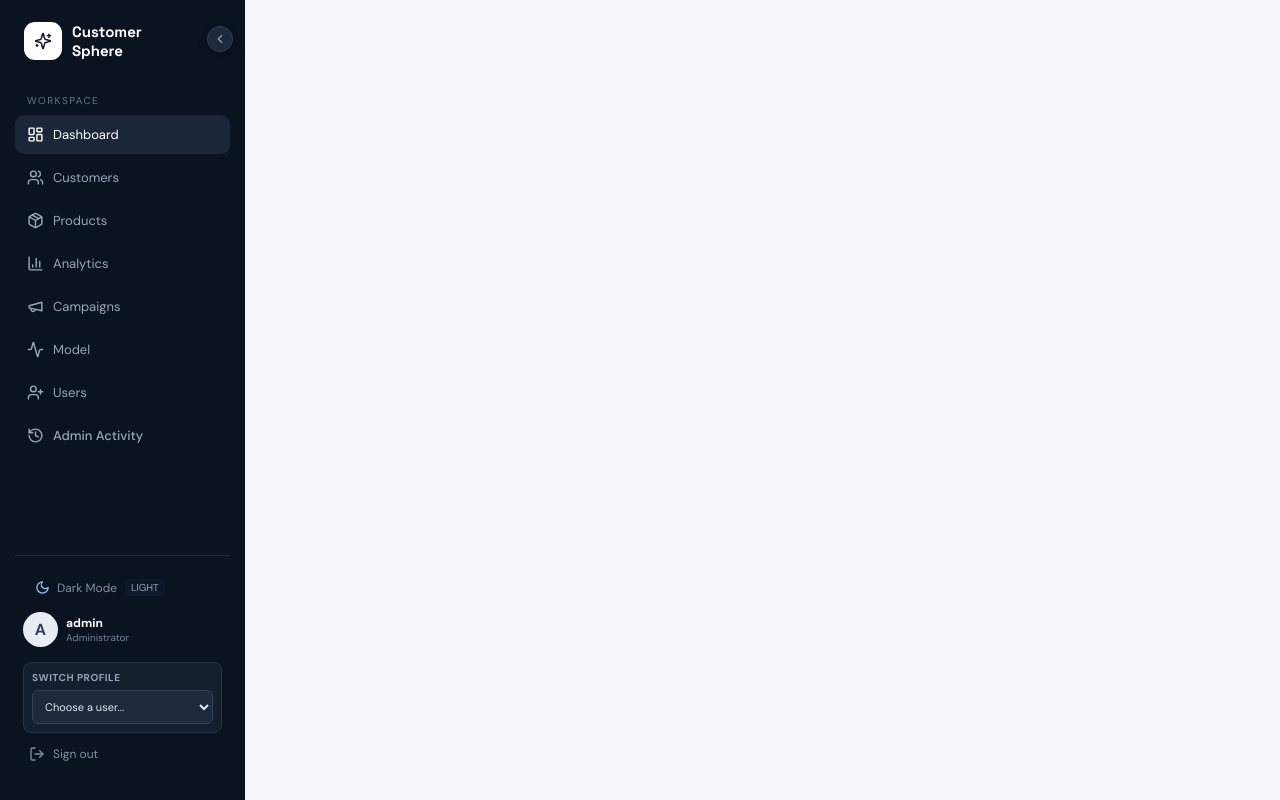
Test case: Shell Navigation & Layout Component › shows login error message when switch authentication fails
This screenshot has width=1280, height=800.
Select "analyst — Viewer" in the dropdown named "Switch profile": {"x": 122, "y": 707} [32,690,213,724]
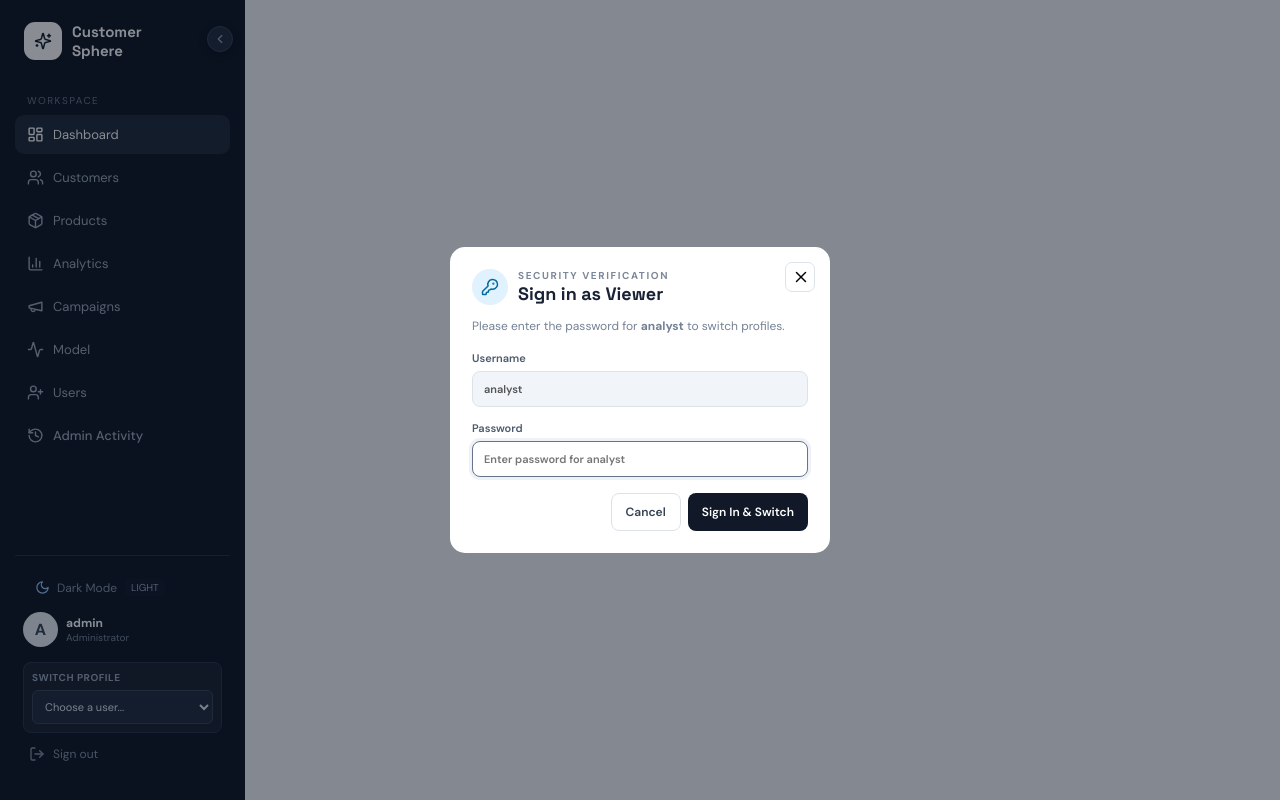
In the password field with placeholder "Enter password for analyst": {"x": 640, "y": 459} [472,441,808,477], type "wrongpass"
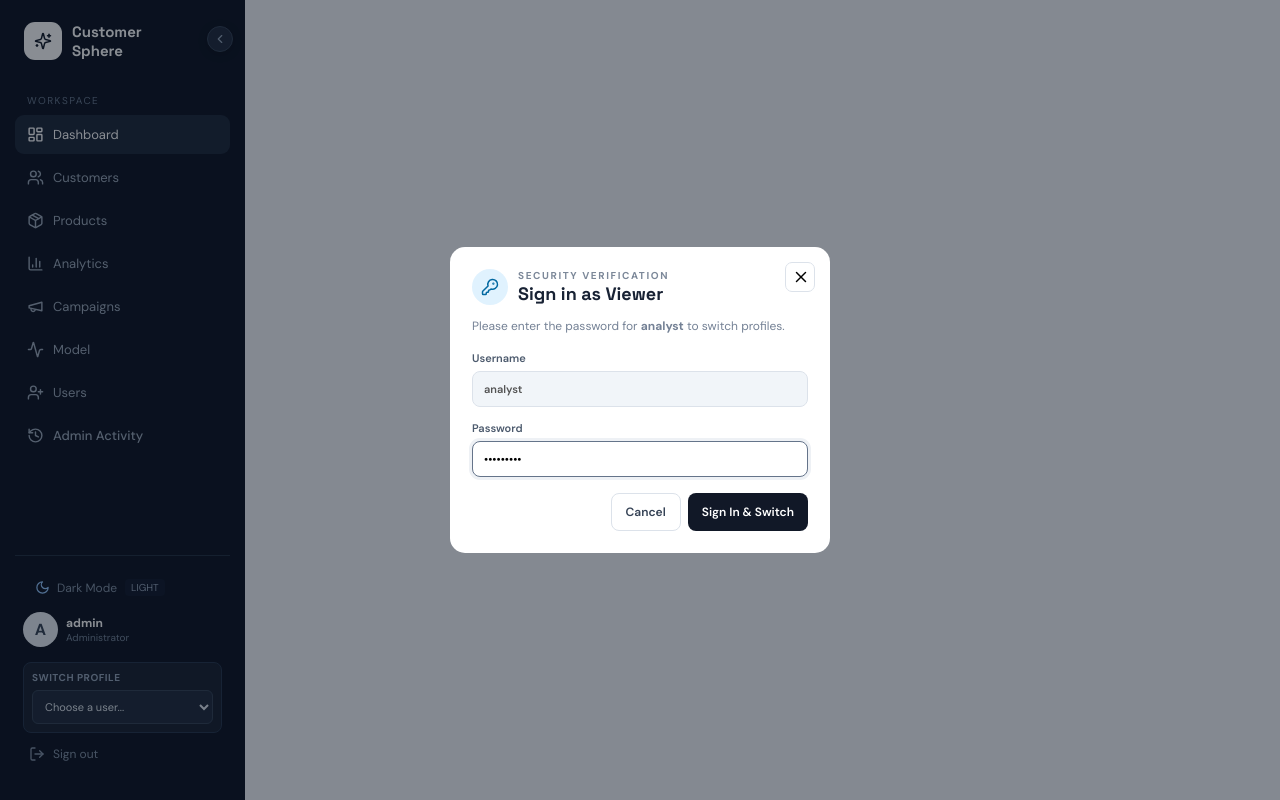
Submit the form with class "modal", box [450,247,830,553]
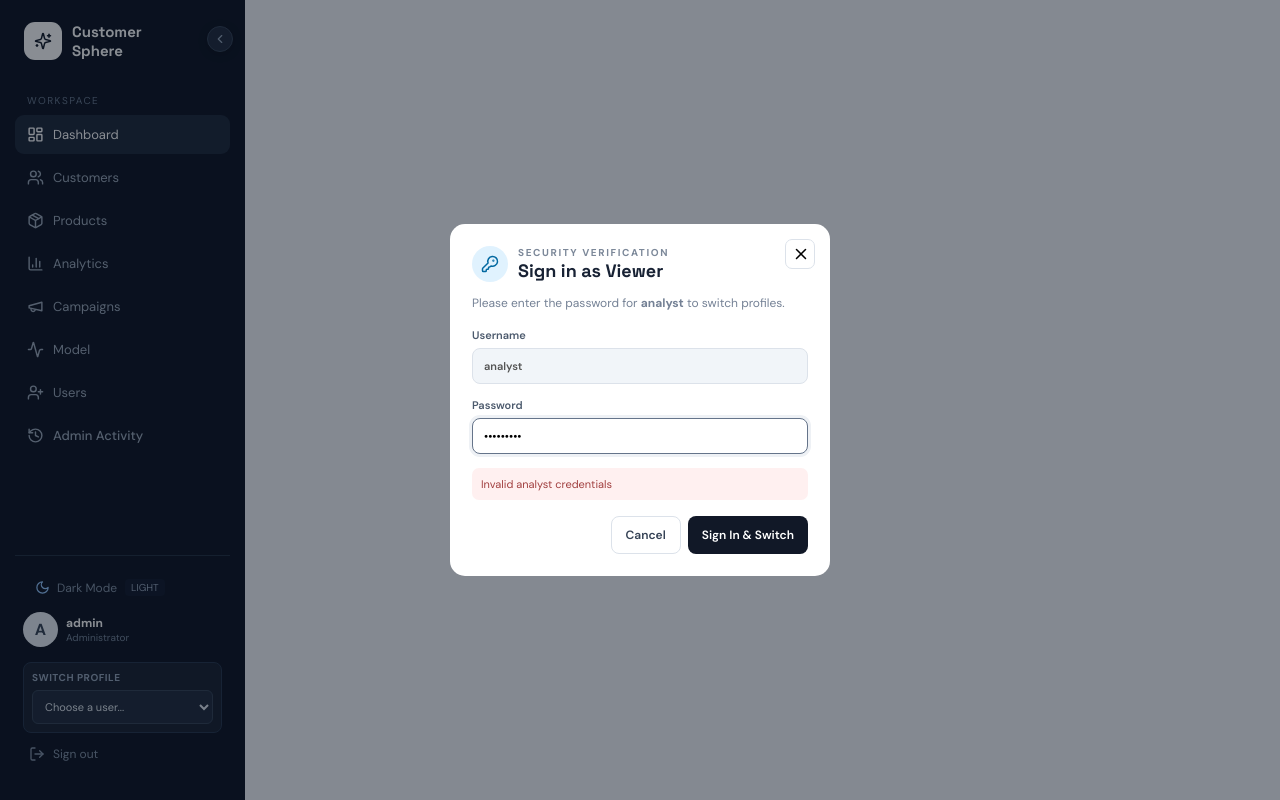
Now the text "Invalid analyst credentials" is shown, box [472,468,808,500]
Note: Close modal via Cancel button
Click the button "Cancel": {"x": 646, "y": 535} [610,516,681,554]
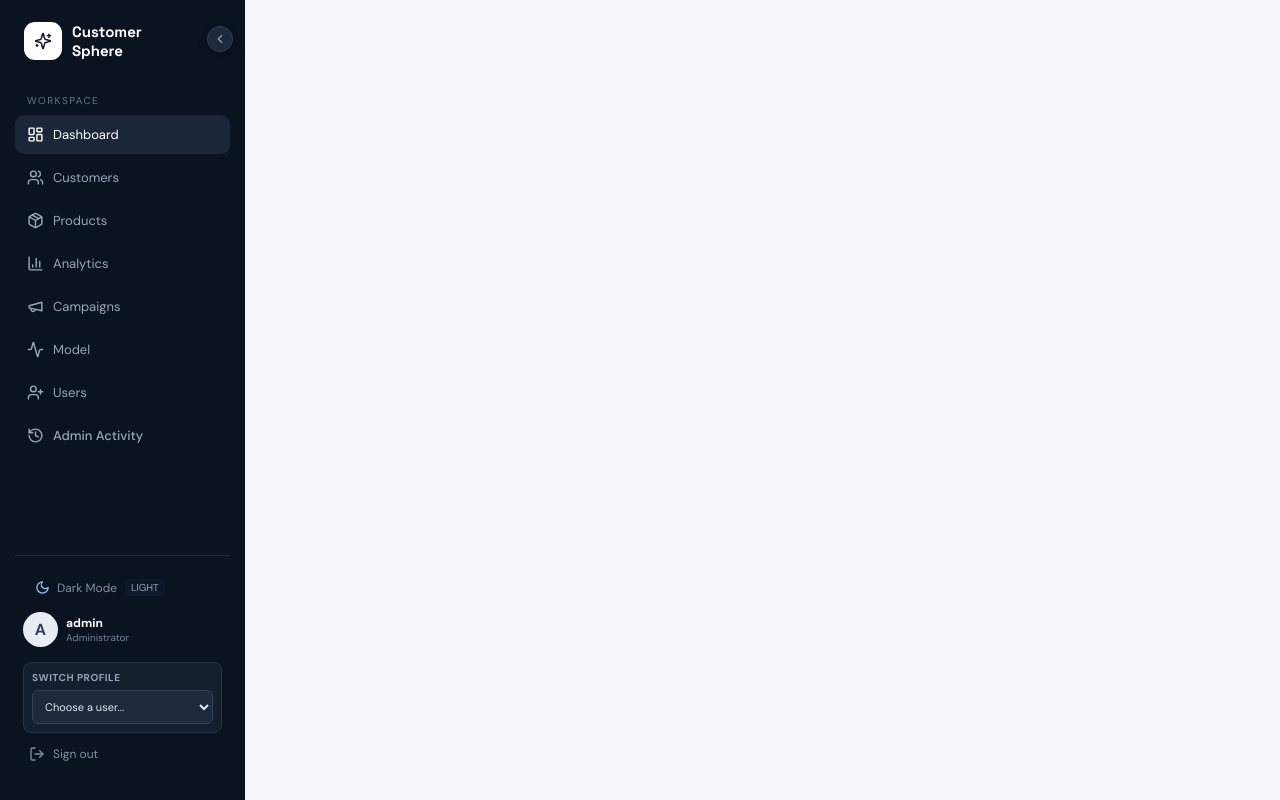
Now the heading "Sign in as Viewer" is gone
